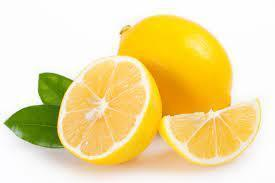lemon: (117, 15, 232, 115), (57, 56, 162, 165), (158, 98, 262, 166)
